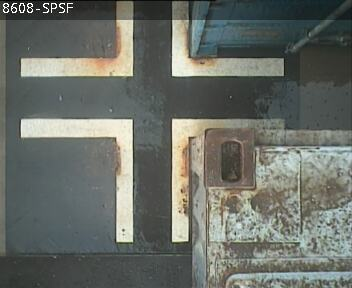groundmarker_1: (19, 118, 285, 242), (20, 1, 283, 76)
